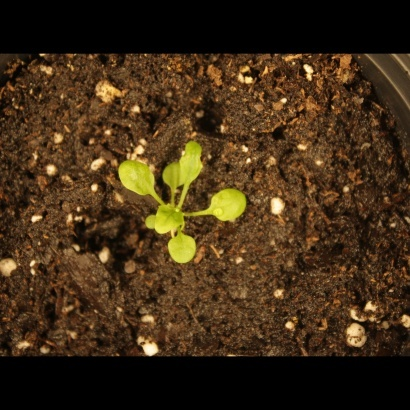leaf: (110, 153, 159, 201), (207, 182, 253, 230), (178, 140, 208, 190), (167, 231, 200, 268), (154, 201, 184, 235), (160, 159, 187, 193), (139, 211, 162, 234)
